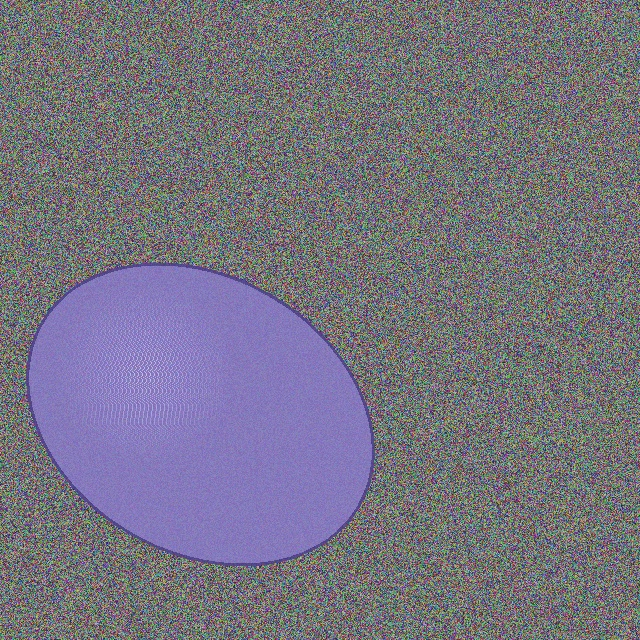lens: (28, 265, 372, 563)
